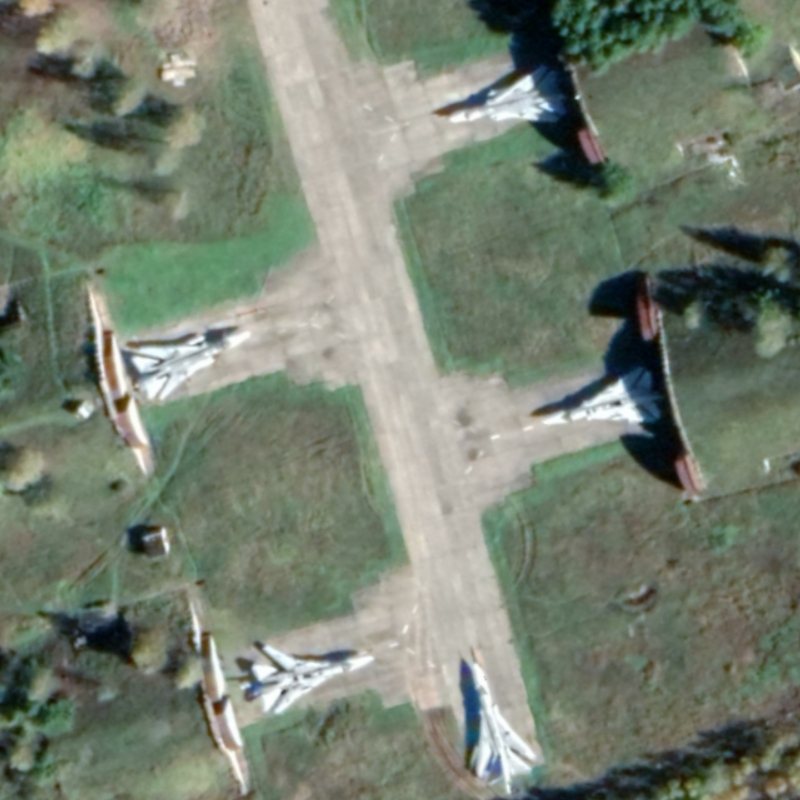A20: (248, 643, 377, 716), (129, 329, 253, 403), (468, 661, 537, 788), (445, 63, 569, 125), (539, 365, 664, 426)
